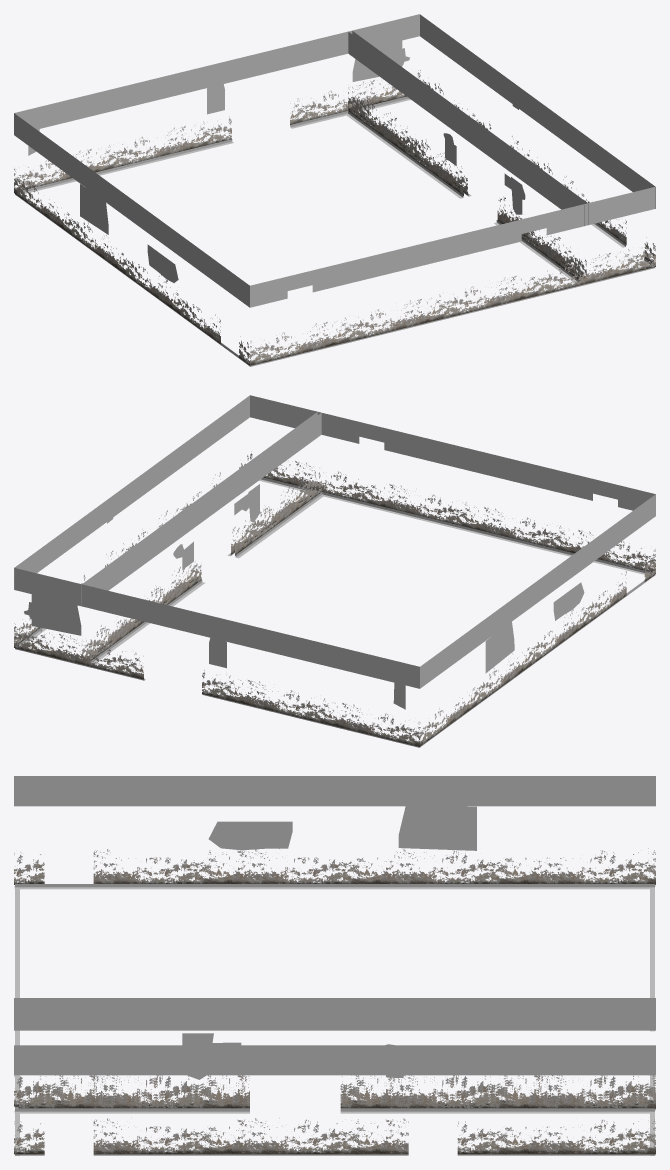
Rendered from A4_H2_Decals.FBX.
3 views of the same model, one above another, from view 1: azimuth 30°, elevation 25°; view 2: azimuth 150°, elevation 25°; view 3: azimuth 270°, elevation 25° (orthographic). The views are drawn at different scales.
Parts seen in each view (by area): view 1: A4_H2_Decals; view 2: A4_H2_Decals; view 3: A4_H2_Decals.
Boxes of the visible parts, <box> form: A4_H2_Decals: <box>14,14,655,366</box>; A4_H2_Decals: <box>14,395,655,747</box>; A4_H2_Decals: <box>14,776,655,1155</box>.
Bounding box in the file's own units: 1625 × 312 × 1637.
